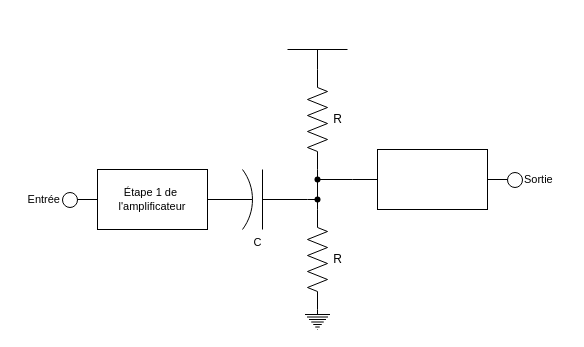
Some shapes in this 584 by 347 pixel diagram are drawn without their labels. Here are the shapes that lost their labels. From the top down, the centre of each, then its label:
At [317,59]: "+V".
At [432,179]: "Étape 2 de l'amplificateur".
